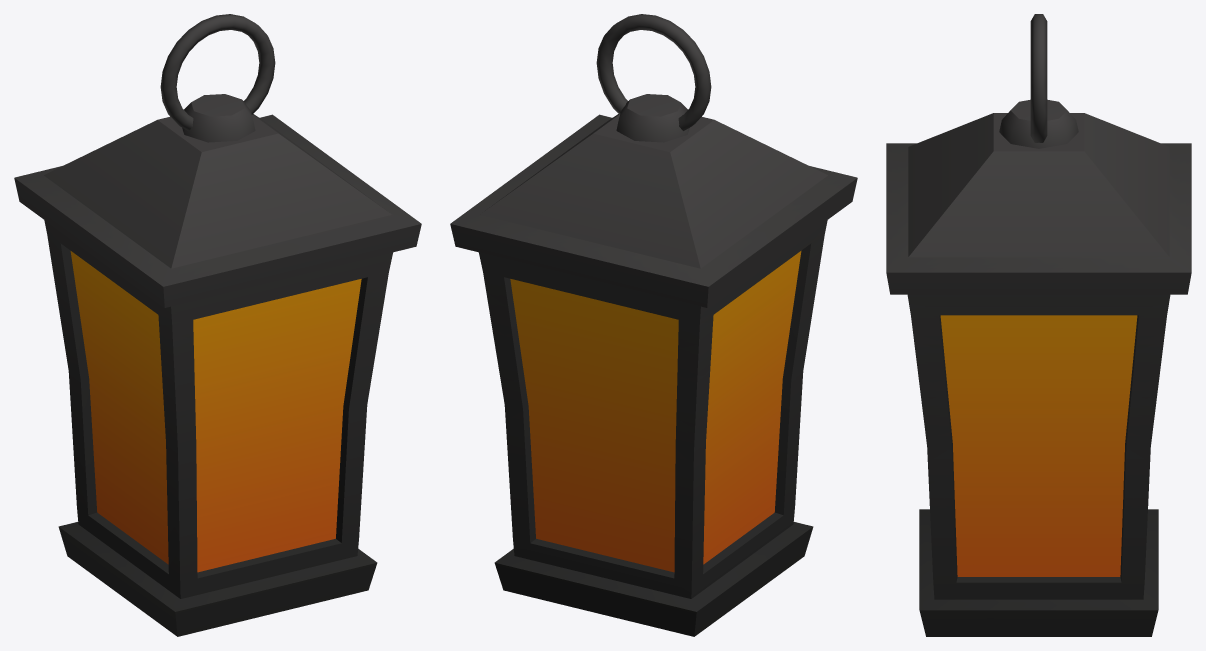
The model's file is Lantern_Lit.fbx.
The picture shows the model from 3 angles, left to right: view 1: azimuth 30°, elevation 25°; view 2: azimuth 150°, elevation 25°; view 3: azimuth 270°, elevation 25°; orthographic projection. The views are drawn at different scales.
Visible parts, largest first — view 1: LanternLit, LanternLitRing; view 2: LanternLit, LanternLitRing; view 3: LanternLit, LanternLitRing.
Boxes of the visible parts, x1=… form: LanternLit: x1=14, y1=94, x2=421, y2=636; LanternLitRing: x1=160, y1=14, x2=275, y2=130; LanternLit: x1=450, y1=94, x2=857, y2=636; LanternLitRing: x1=596, y1=14, x2=711, y2=130; LanternLit: x1=886, y1=99, x2=1191, y2=636; LanternLitRing: x1=1030, y1=14, x2=1047, y2=142.
Size of the model in its own units: 20.22 by 41.59 by 20.22.
